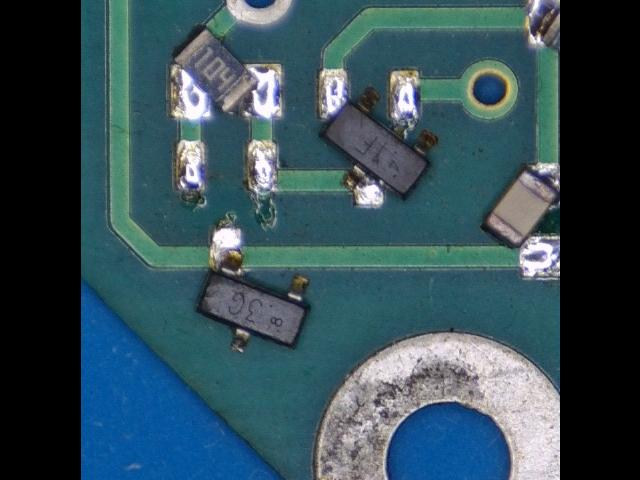Incorrect_installation: (318, 70, 439, 206), (194, 228, 310, 355), (168, 27, 283, 120), (482, 163, 561, 280), (527, 1, 561, 54)
